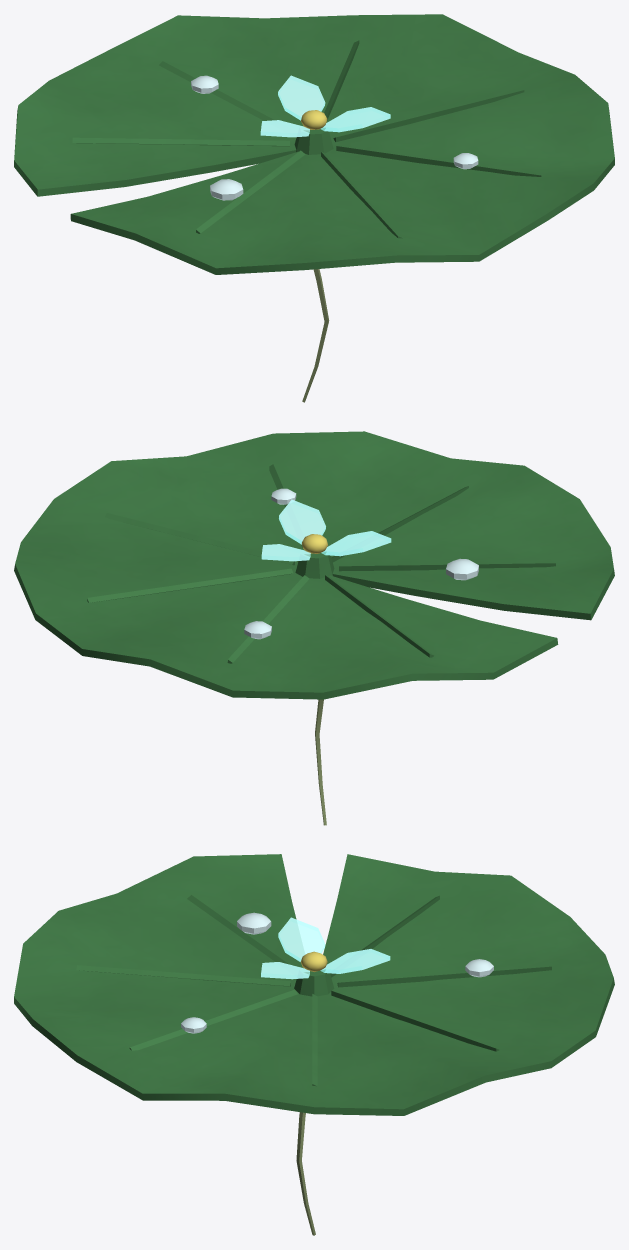
Rendered from nenufar_espacial.fbx.
3 renders of one model, top to bottom at view 1: azimuth 30°, elevation 25°; view 2: azimuth 150°, elevation 25°; view 3: azimuth 270°, elevation 25°, orthographic.
Visible parts, largest first — view 1: nenufar_espacial, nenufar_espacial_flor_neon, nenufar_espacial_gotas_cristal; view 2: nenufar_espacial, nenufar_espacial_flor_neon, nenufar_espacial_gotas_cristal; view 3: nenufar_espacial, nenufar_espacial_flor_neon, nenufar_espacial_gotas_cristal.
Part boxes in pixels (left/top/right/bottom): nenufar_espacial: left=14, top=14, right=614, bottom=402; nenufar_espacial_flor_neon: left=260, top=75, right=390, bottom=137; nenufar_espacial_gotas_cristal: left=191, top=75, right=478, bottom=200; nenufar_espacial: left=14, top=431, right=614, bottom=825; nenufar_espacial_flor_neon: left=261, top=499, right=391, bottom=561; nenufar_espacial_gotas_cristal: left=244, top=488, right=478, bottom=639; nenufar_espacial: left=14, top=854, right=614, bottom=1235; nenufar_espacial_flor_neon: left=261, top=917, right=390, bottom=979; nenufar_espacial_gotas_cristal: left=181, top=912, right=493, bottom=1033.
Size of the model in its own units: 2 by 1.07 by 2.
Materials: 3 (1 with a texture image).
